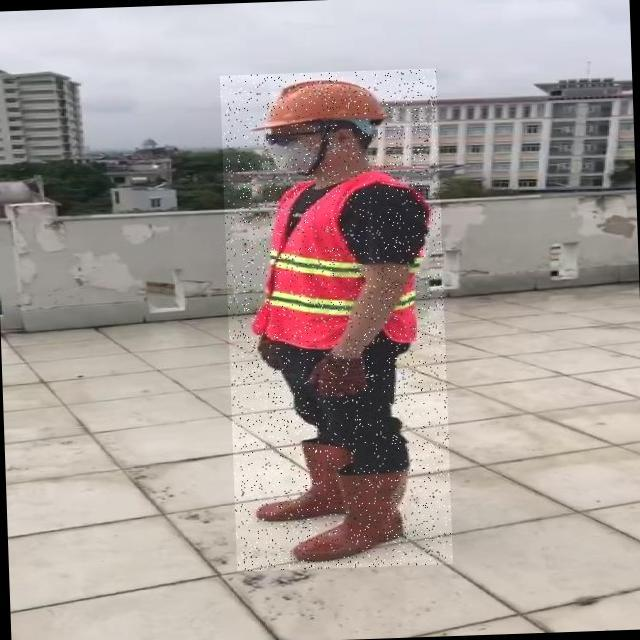Gloves: (307, 357, 367, 398)
Helmet: (252, 76, 394, 133)
Human: (220, 69, 453, 572)
Safety Boot: (288, 468, 409, 562), (255, 439, 356, 523)
Safety Vest: (251, 179, 431, 352)
